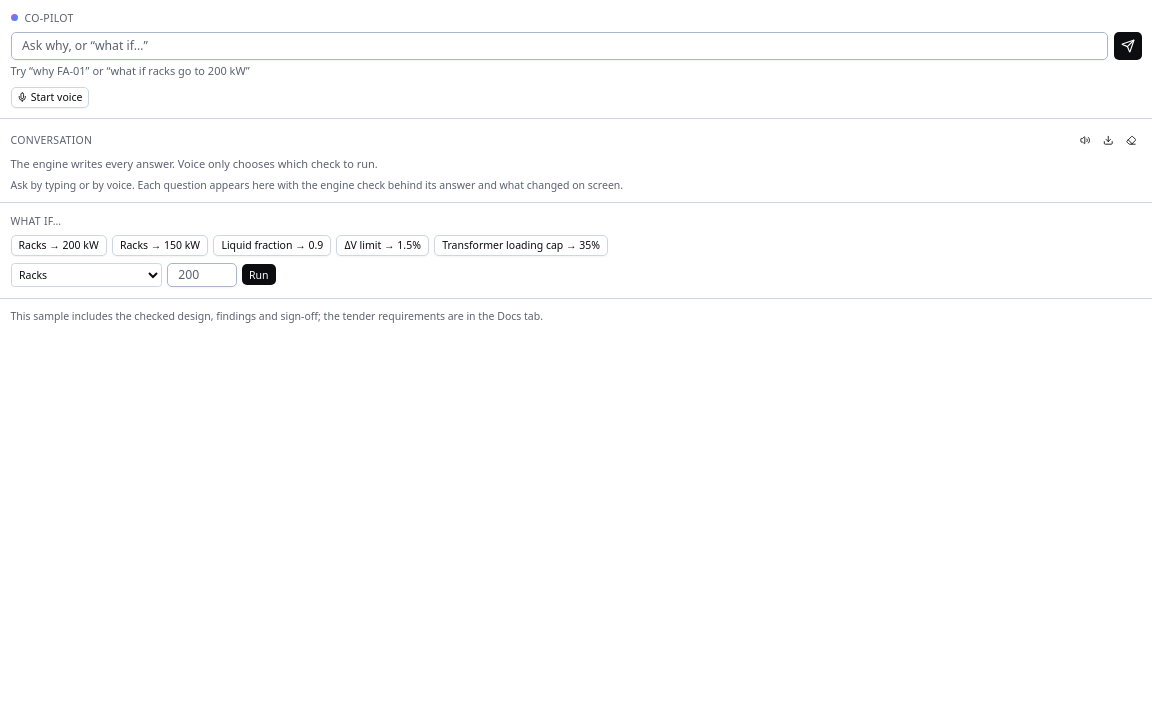
a slow answer stays under its own question and never lands under a later one
Type "why did FA-01 fail?" into the field named "Ask the co-pilot".
click(559, 46); type("why did FA-01 fail?")  # box [10, 32, 1108, 60]
Then press Enter
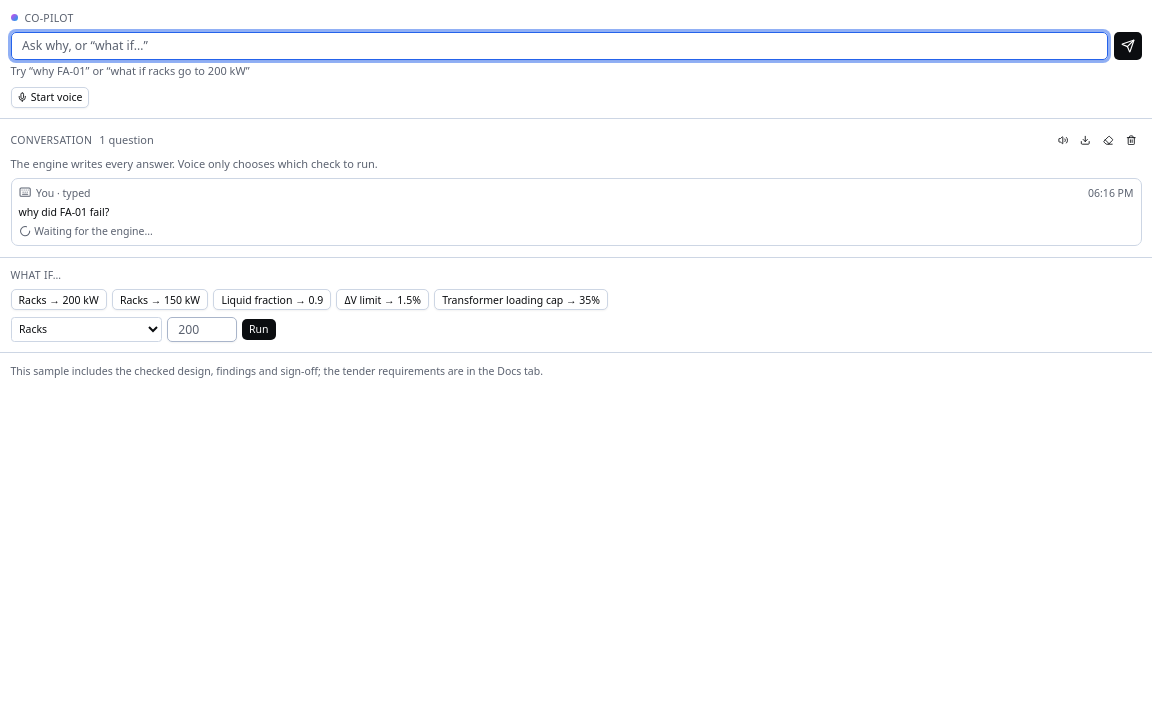
Type "show H-Z2" into the field named "Ask the co-pilot".
click(559, 46); type("show H-Z2")  # box [10, 32, 1108, 60]
Then press Enter
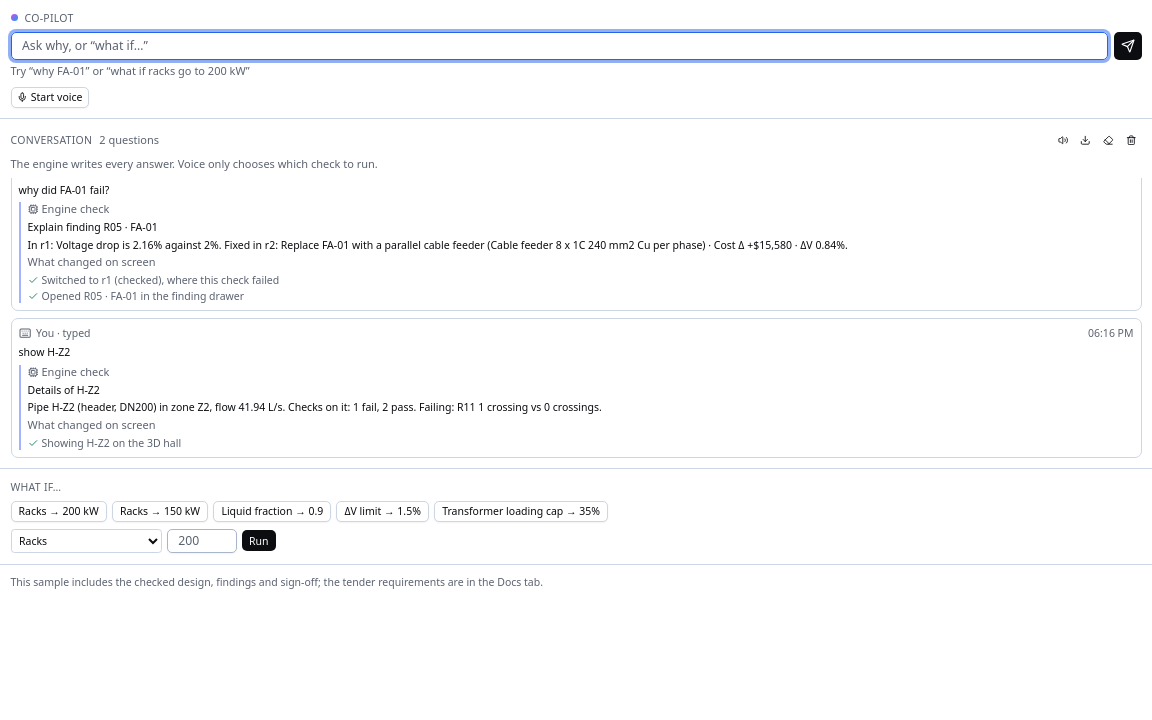
Expected: the list item that starts with "You · typed" shows "why did FA-01 fail?", [18, 183, 109, 197]
Expected: the list item that starts with "You · typed" shows "Voltage drop is 2.16% against 2%.", [28, 238, 848, 252]
Expected: the list item that starts with "You · typed" shows "show H-Z2", [18, 345, 70, 359]
